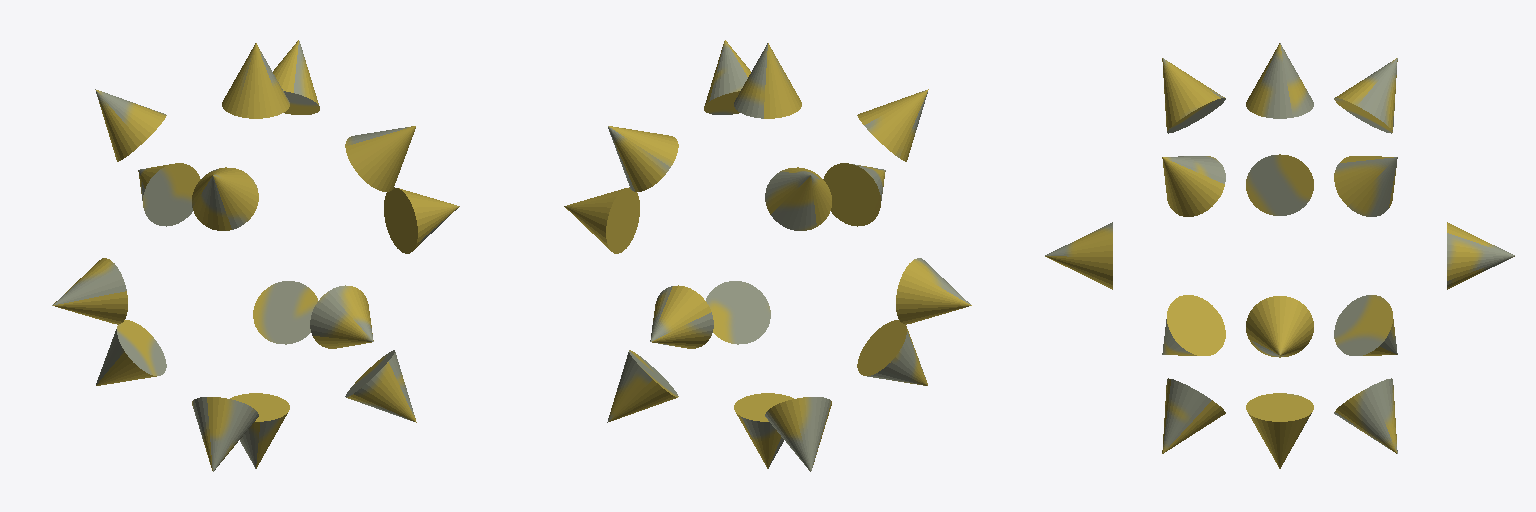
The picture shows the model from 3 angles: view 1: azimuth 30°, elevation 25°; view 2: azimuth 150°, elevation 25°; view 3: azimuth 270°, elevation 25°; orthographic projection.
Visible parts, largest first — view 1: 円錐.007, 円錐.004, 円錐.012, 円錐.005, 円錐.006, 円錐.002, 円錐.013, 円錐.003, 円錐, 円錐.009, 円錐.008, 円錐.011 (+2 smaller); view 2: 円錐.011, 円錐.005, 円錐.008, 円錐.004, 円錐.010, 円錐.002, 円錐.009, 円錐.003, 円錐, 円錐.013, 円錐.007, 円錐.012 (+2 smaller); view 3: 円錐.002, 円錐.003, 円錐.006, 円錐.009, 円錐.010, 円錐.013, 円錐, 円錐.001, 円錐.007, 円錐.008, 円錐.011, 円錐.012 (+2 smaller).
Boxes of the visible parts, <box> form: 円錐.007: <box>192,167,258,230</box>; 円錐.004: <box>310,285,373,348</box>; 円錐.012: <box>253,281,317,344</box>; 円錐.005: <box>138,163,200,226</box>; 円錐.006: <box>345,126,415,191</box>; 円錐.002: <box>52,258,127,324</box>; 円錐.013: <box>96,320,166,385</box>; 円錐.003: <box>384,187,459,253</box>; 円錐: <box>222,43,289,118</box>; 円錐.009: <box>192,397,258,471</box>; 円錐.008: <box>345,350,416,422</box>; 円錐.011: <box>95,89,166,161</box>; 円錐.011: <box>765,167,831,230</box>; 円錐.005: <box>650,285,713,348</box>; 円錐.008: <box>706,281,770,344</box>; 円錐.004: <box>823,163,885,226</box>; 円錐.010: <box>608,126,678,191</box>; 円錐.002: <box>896,258,971,324</box>; 円錐.009: <box>857,320,927,385</box>; 円錐.003: <box>564,187,639,253</box>; 円錐: <box>734,43,801,118</box>; 円錐.013: <box>765,397,831,471</box>; 円錐.007: <box>857,89,928,161</box>; 円錐.012: <box>607,350,678,422</box>; 円錐.002: <box>1246,154,1313,215</box>; 円錐.003: <box>1246,296,1313,357</box>; 円錐.006: <box>1162,156,1225,216</box>; 円錐.009: <box>1162,295,1225,355</box>; 円錐.010: <box>1334,156,1397,216</box>; 円錐.013: <box>1334,295,1397,355</box>; 円錐: <box>1246,43,1313,118</box>; 円錐.001: <box>1246,393,1313,468</box>; 円錐.007: <box>1162,58,1225,133</box>; 円錐.008: <box>1162,378,1225,453</box>; 円錐.011: <box>1334,58,1397,133</box>; 円錐.012: <box>1334,378,1397,453</box>.
Size of the model in its own units: 2.76 by 2.76 by 2.76.
Materials: 1 (1 with a texture image).